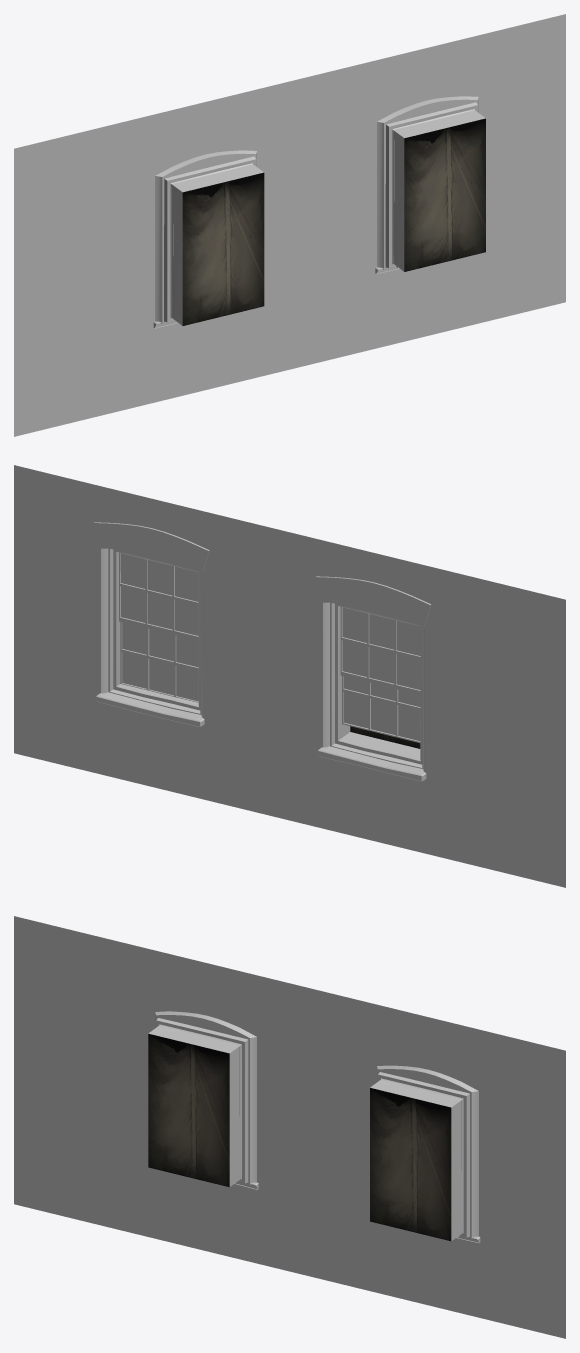
The model's file is streets_windows_8m_white_lit.dae.
3 renders of one model, top to bottom at view 1: azimuth 30°, elevation 25°; view 2: azimuth 150°, elevation 25°; view 3: azimuth 330°, elevation 25°, orthographic.
Visible parts, largest first — view 1: polySurface260, polySurface472, polySurface471; view 2: polySurface260, polySurface471, polySurface468; view 3: polySurface260, polySurface472, polySurface471.
Boxes of the visible parts, left/top/right/bottom form: polySurface260: left=14, top=14, right=565, bottom=436; polySurface472: left=182, top=118, right=485, bottom=325; polySurface471: left=153, top=95, right=485, bottom=328; polySurface260: left=14, top=465, right=565, bottom=887; polySurface471: left=93, top=522, right=431, bottom=781; polySurface468: left=120, top=553, right=420, bottom=740; polySurface260: left=14, top=916, right=565, bottom=1338; polySurface472: left=148, top=1033, right=451, bottom=1241; polySurface471: left=148, top=1010, right=480, bottom=1242.
Bounding box in the file's own units: 8.02 × 4 × 0.5323.
